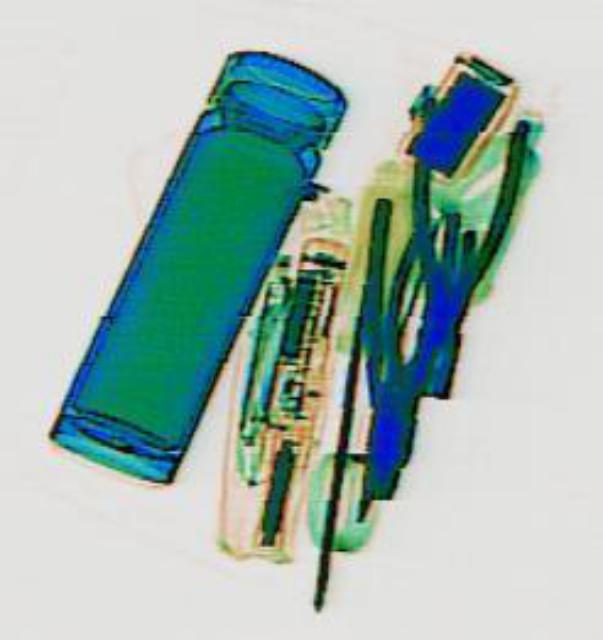Pliers: (332, 192, 463, 498), (377, 100, 527, 356)
